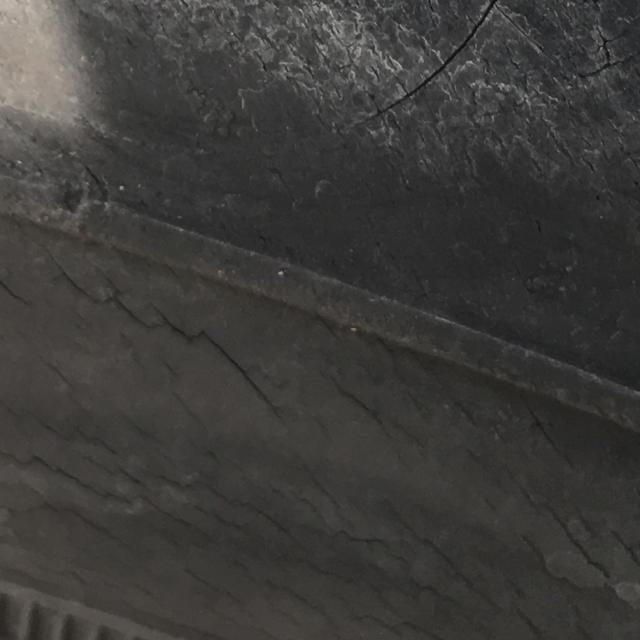Cracks: (0, 208, 639, 639), (304, 0, 639, 158)
